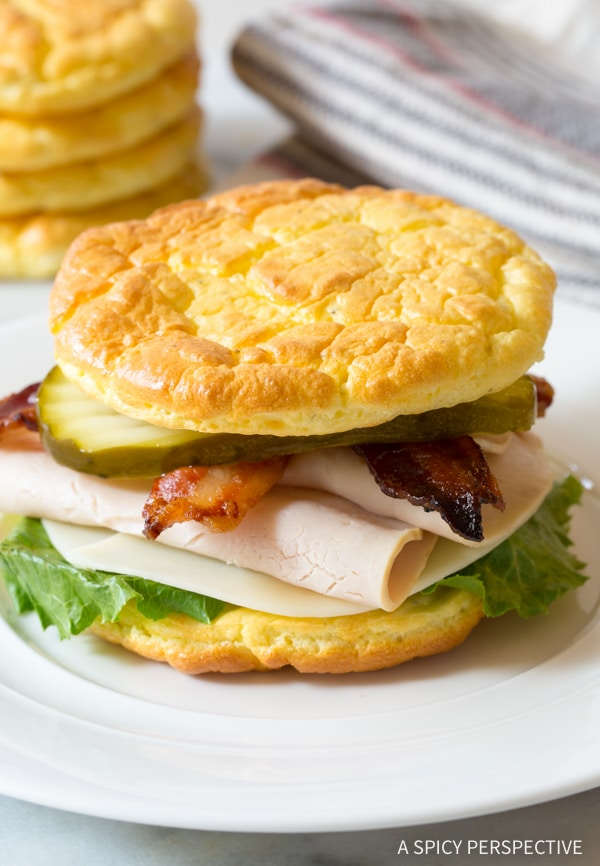hamburger_buns: (50, 171, 578, 444), (101, 579, 491, 673)
